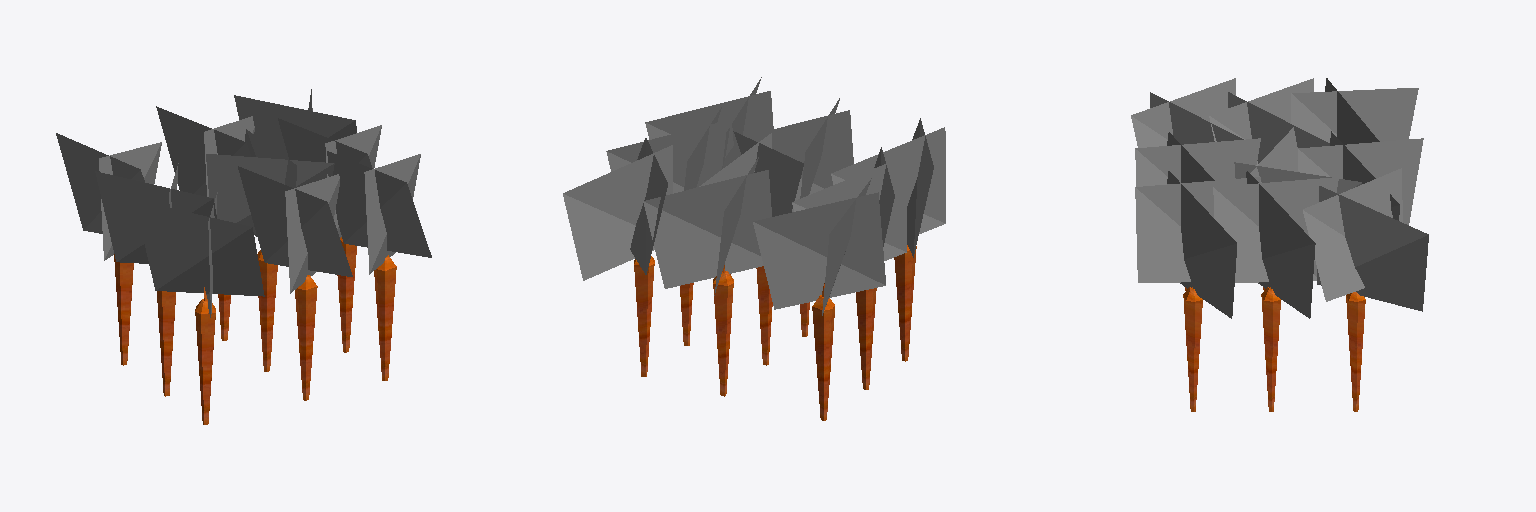
3 views of the same model, side by side, from view 1: azimuth 30°, elevation 25°; view 2: azimuth 150°, elevation 25°; view 3: azimuth 270°, elevation 25° (orthographic).
Visible parts, largest first — view 1: Default_Layer; view 2: Default_Layer; view 3: Default_Layer.
Part boxes in pixels (left/top/right/bottom): Default_Layer: left=56, top=89, right=431, bottom=424; Default_Layer: left=563, top=77, right=945, bottom=420; Default_Layer: left=1131, top=78, right=1428, bottom=411.
Bounding box in the file's own units: 2953 × 2220 × 2649.
Materials: 2 (1 with a texture image).